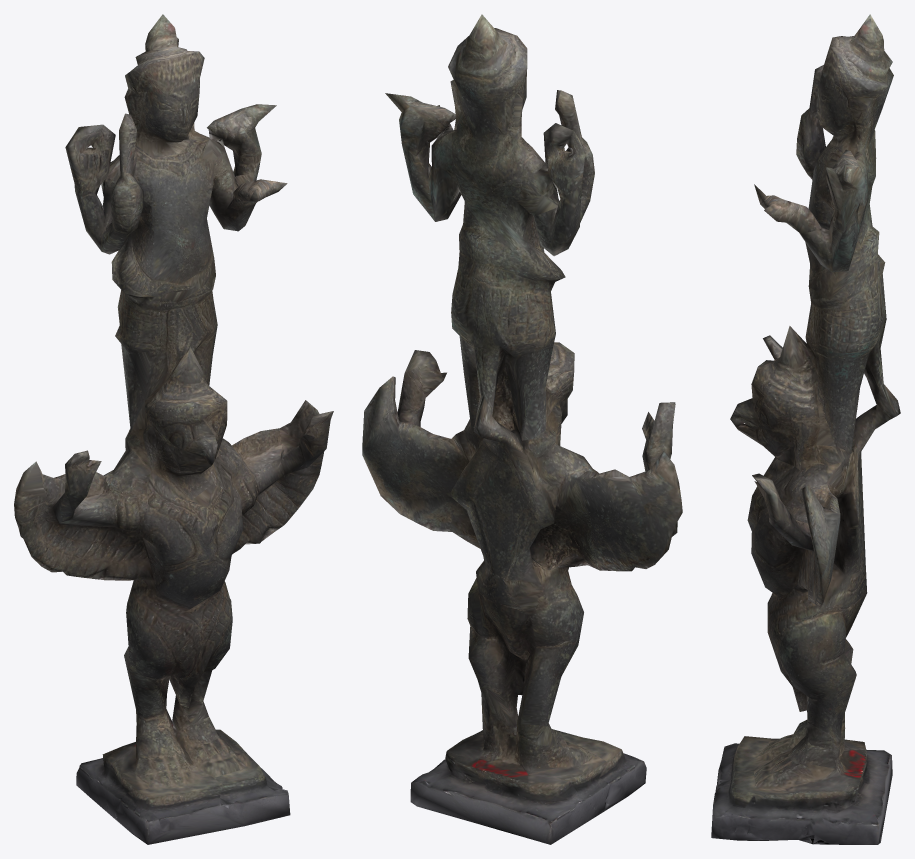
3 renders of one model, left to right at view 1: azimuth 30°, elevation 25°; view 2: azimuth 150°, elevation 25°; view 3: azimuth 270°, elevation 25°, orthographic. The views are drawn at different scales.
Parts seen in each view (by area): view 1: Mia_008321_VishnuGaruda_64k_OBJ_001; view 2: Mia_008321_VishnuGaruda_64k_OBJ_001; view 3: Mia_008321_VishnuGaruda_64k_OBJ_001.
Boxes of the visible parts, x1,y1,x2,y2 form: Mia_008321_VishnuGaruda_64k_OBJ_001: (14,14,333,844); Mia_008321_VishnuGaruda_64k_OBJ_001: (362,14,682,844); Mia_008321_VishnuGaruda_64k_OBJ_001: (711,14,900,844).
Bounding box in the file's own units: 1.01 × 2.39 × 0.5138.
Materials: 1 (1 with a texture image).
